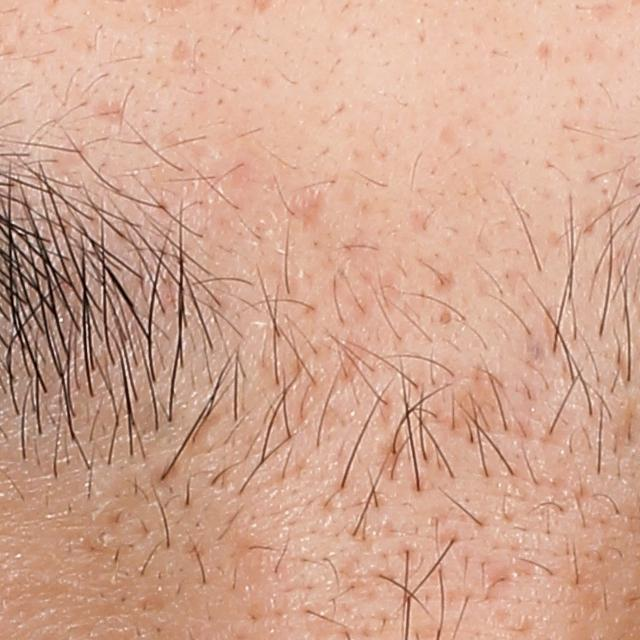atrophic_scar: (284, 185, 331, 231), (93, 99, 127, 128), (411, 207, 441, 236), (588, 2, 622, 24), (172, 38, 196, 64), (537, 36, 559, 63), (436, 124, 461, 145)
comedo: (434, 306, 461, 327)
